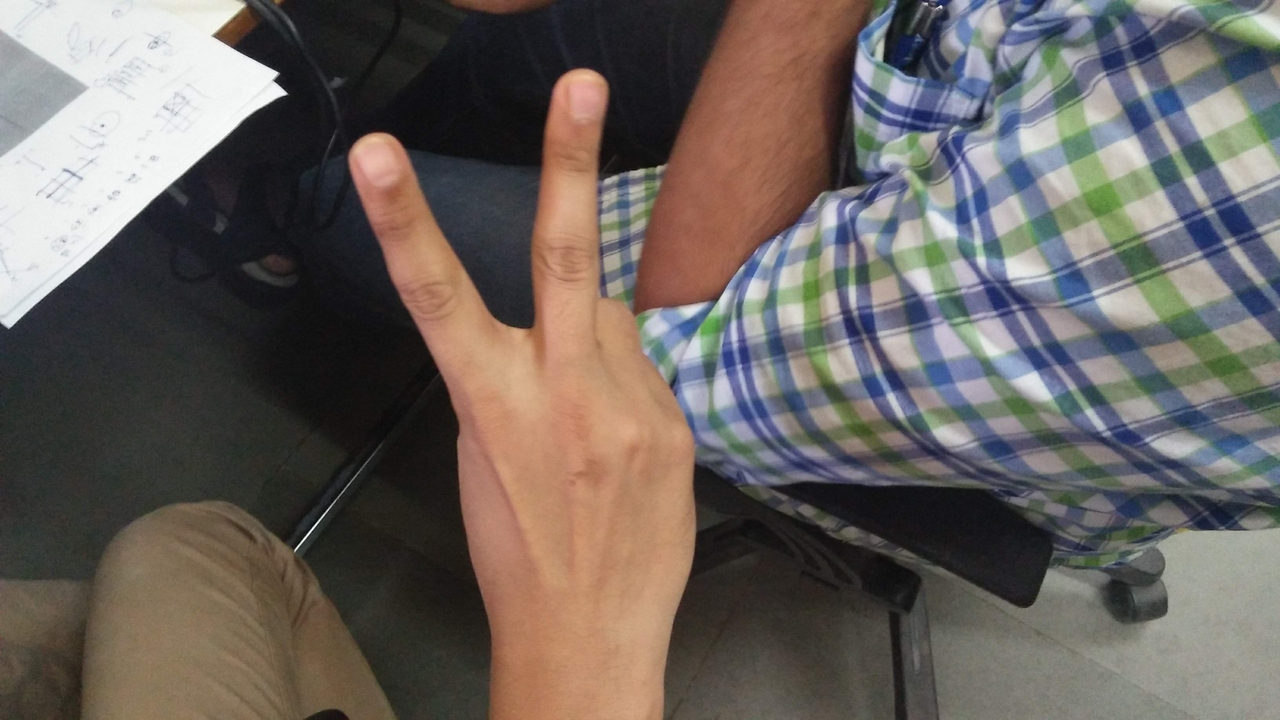fingertip: (336, 128, 418, 200), (542, 64, 606, 128)
